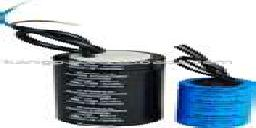Electrolytic-Capacitor: (11, 10, 168, 128), (172, 35, 256, 125)
